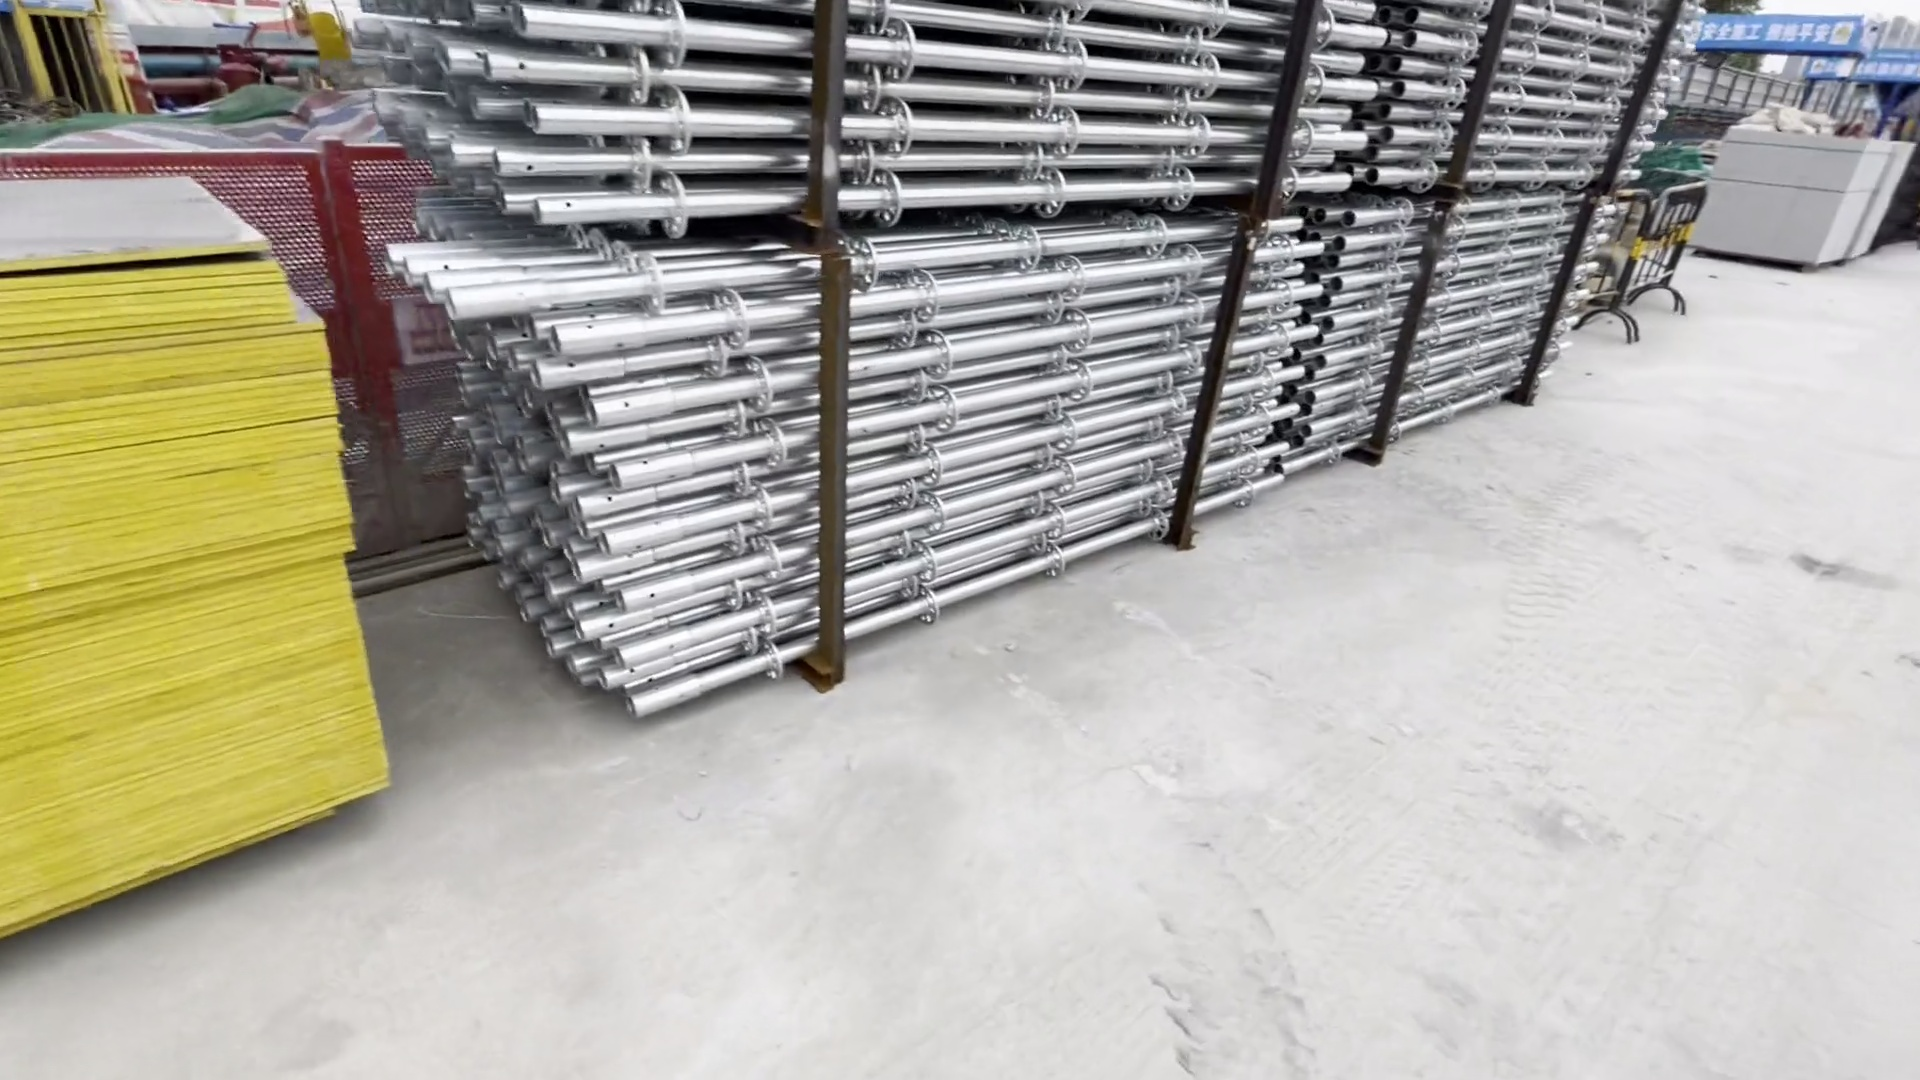board: (1, 162, 404, 957)
brick: (1689, 123, 1913, 285)
scaffold: (396, 1, 1629, 764)
slogan: (1697, 13, 1865, 59)
